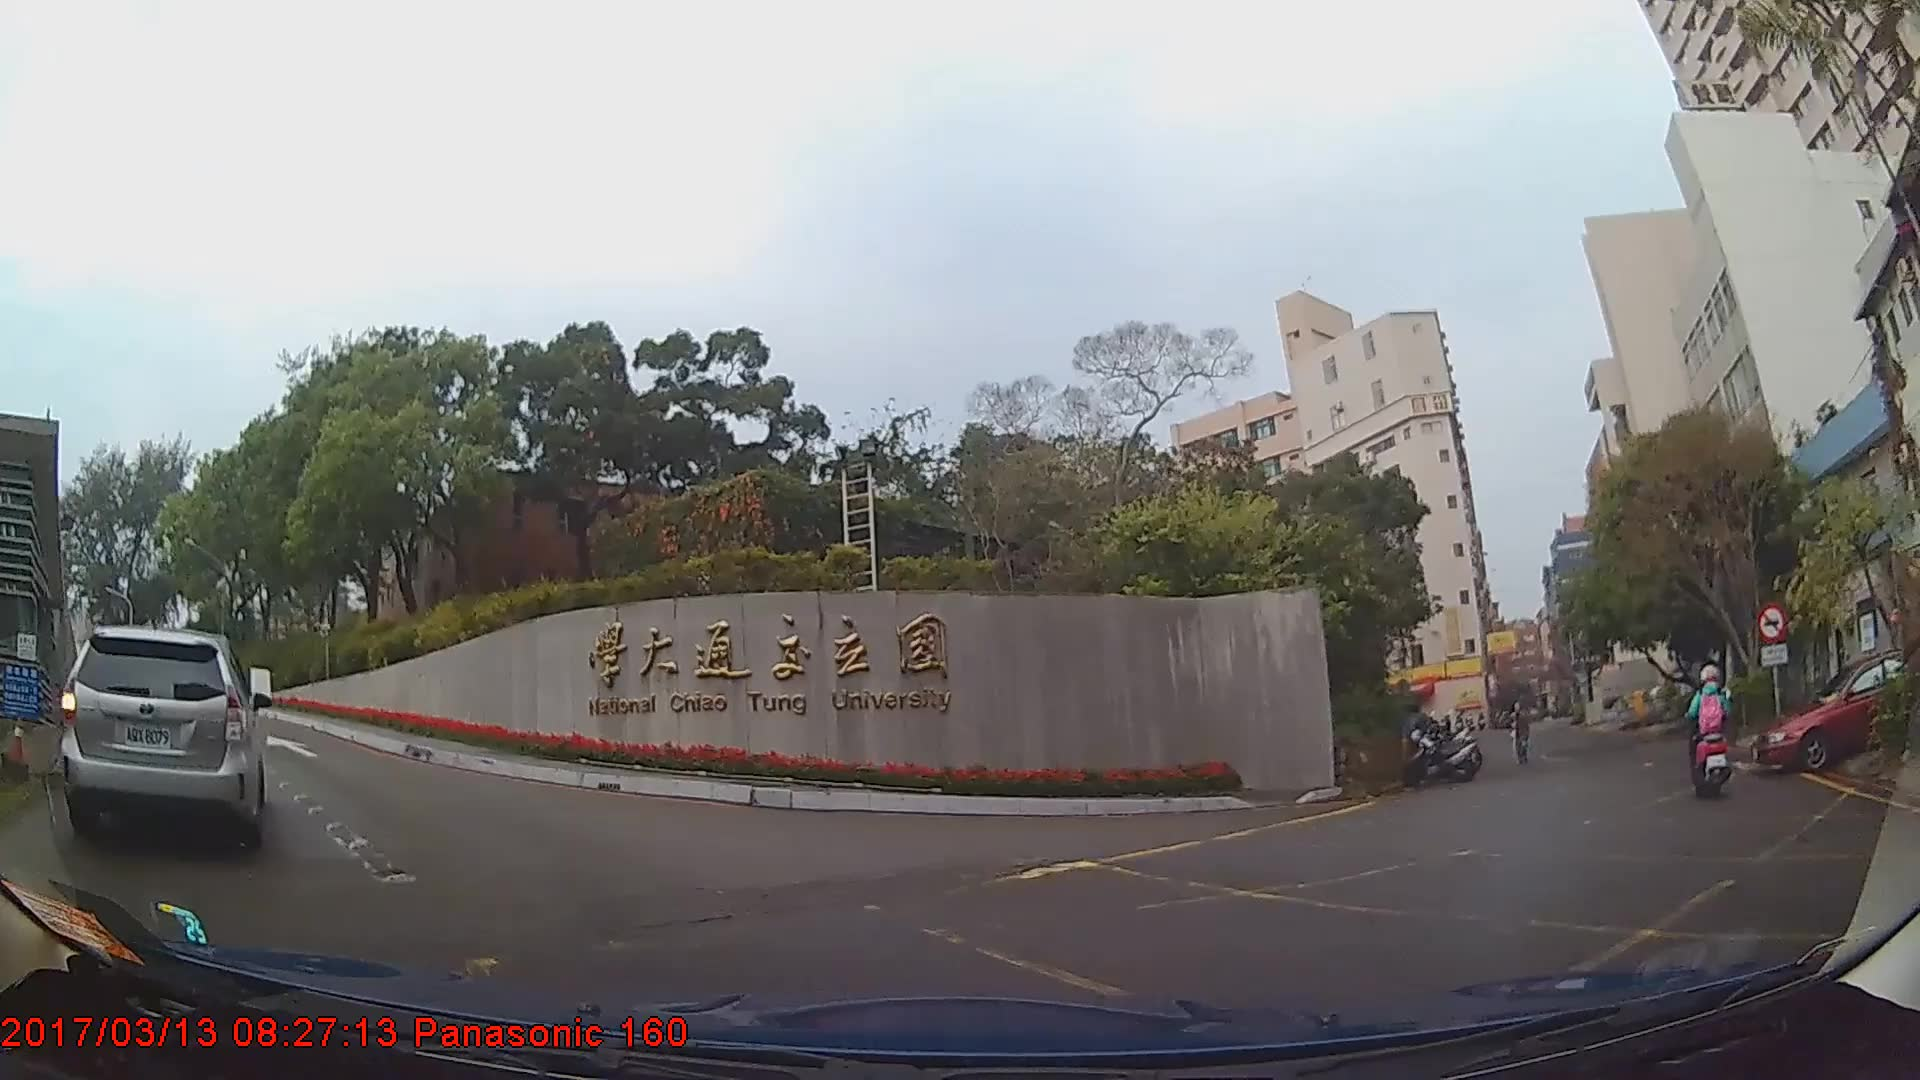pedestrian: (1506, 702, 1531, 763)
rider: (1689, 662, 1735, 800)
vehicle: (59, 625, 266, 851), (1749, 650, 1918, 773)
